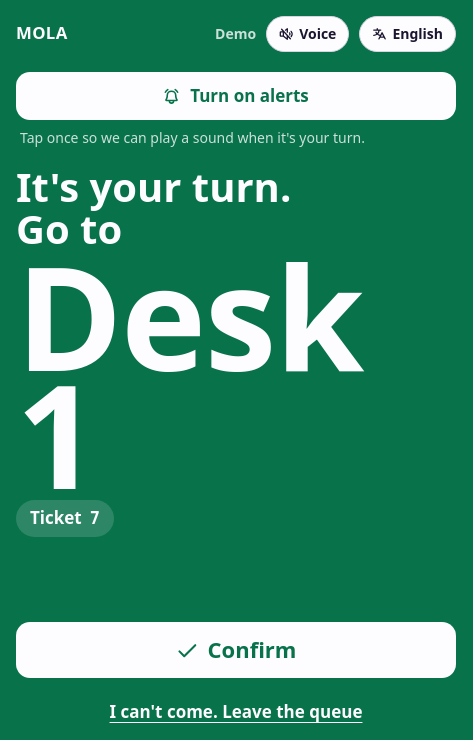
Test case: confirming a called ticket › stops on unmount
This screenshot has width=473, height=740.
Step 1. Click the button "Confirm" → (236, 650), box [16,622,456,678]
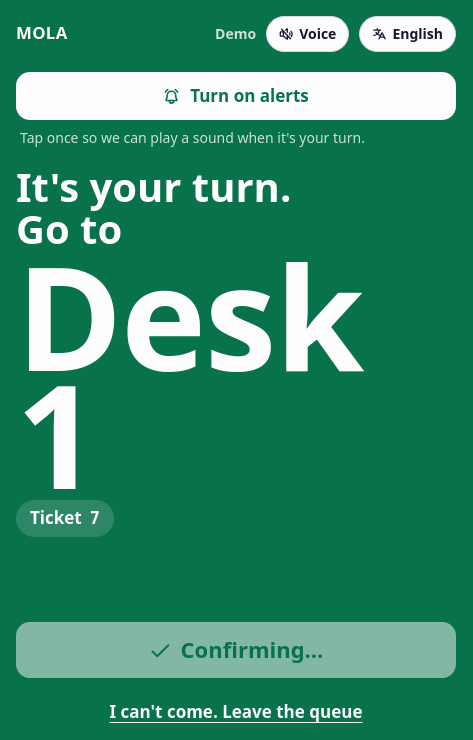
Expected: the button "Confirming…" is disabled, [16,622,456,678]
